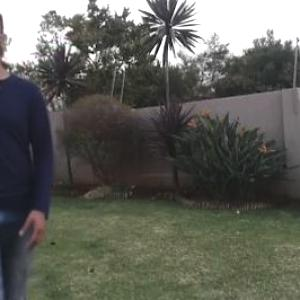follow: (1, 20, 57, 299)
